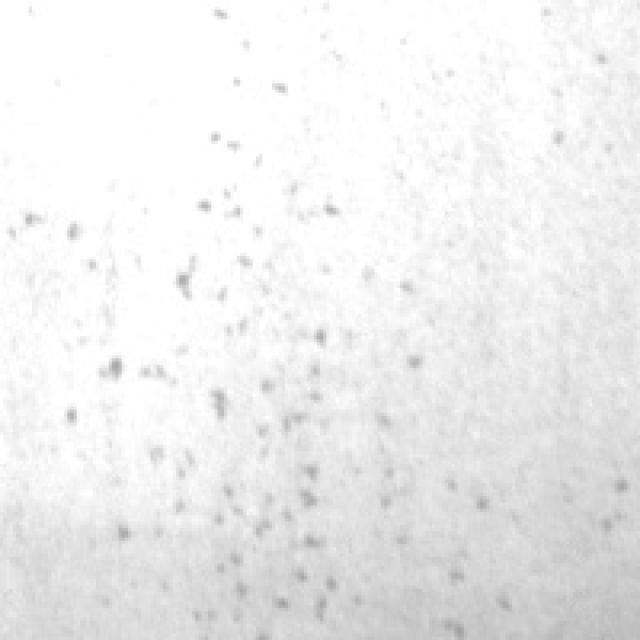pitted_surface: (160, 19, 432, 630), (3, 208, 179, 544), (419, 0, 624, 170), (438, 464, 628, 634)
